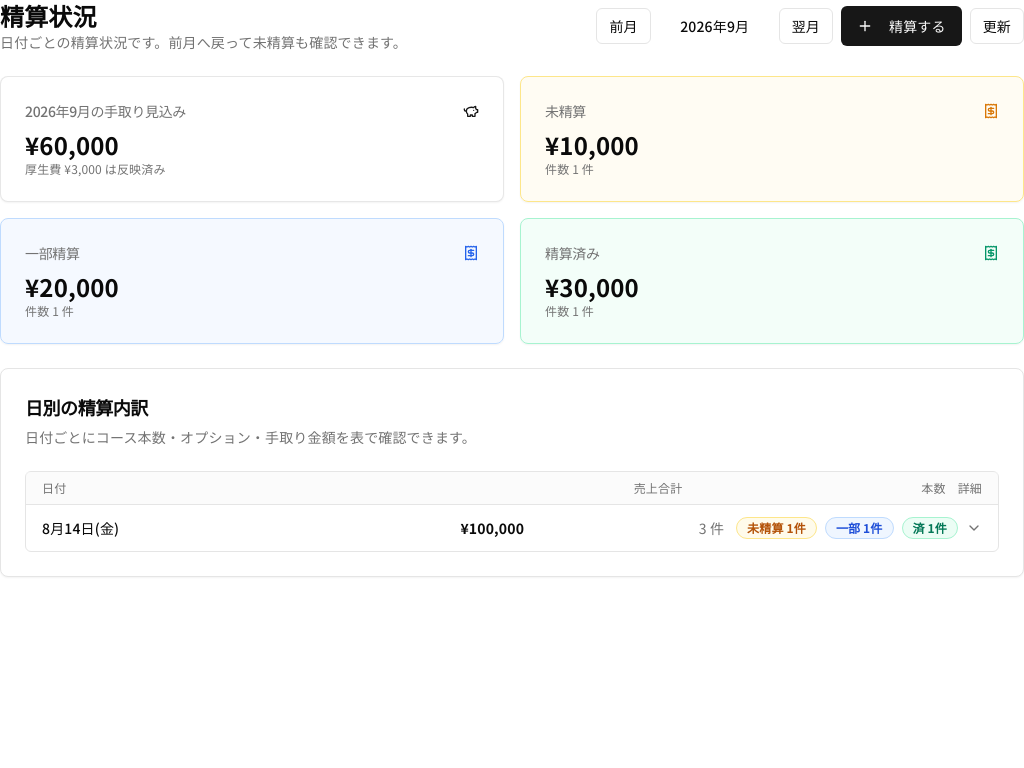
it: SettlementStatusTab › restores every unpaid reservation when 未精算全件を入れる is clicked
What coordinates should you click on to do the following:
click the button "精算する"
I would click on:
 (901, 26)
Its box is [841,6,962,46].
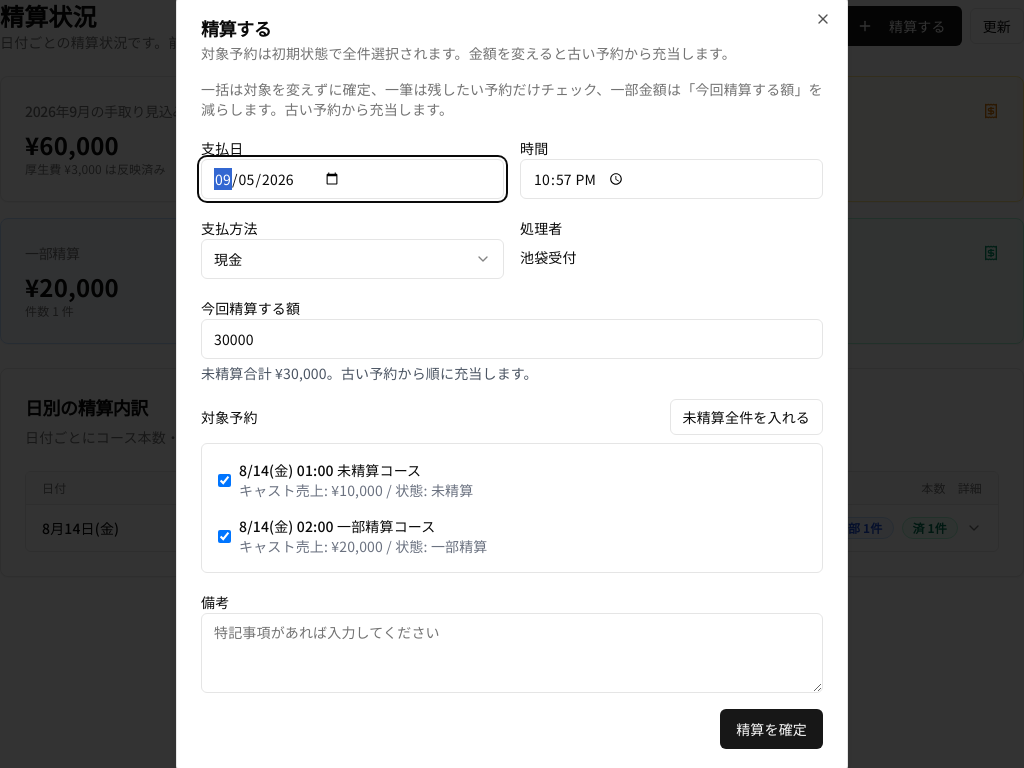
What coordinates should you click on to do the following:
click the checkbox labelled "8/14(金) 01:00 未精算コース キャスト売上: ¥10,000 / 状態: 未精算"
I would click on:
 (224, 480)
Its box is [218,474,231,486].
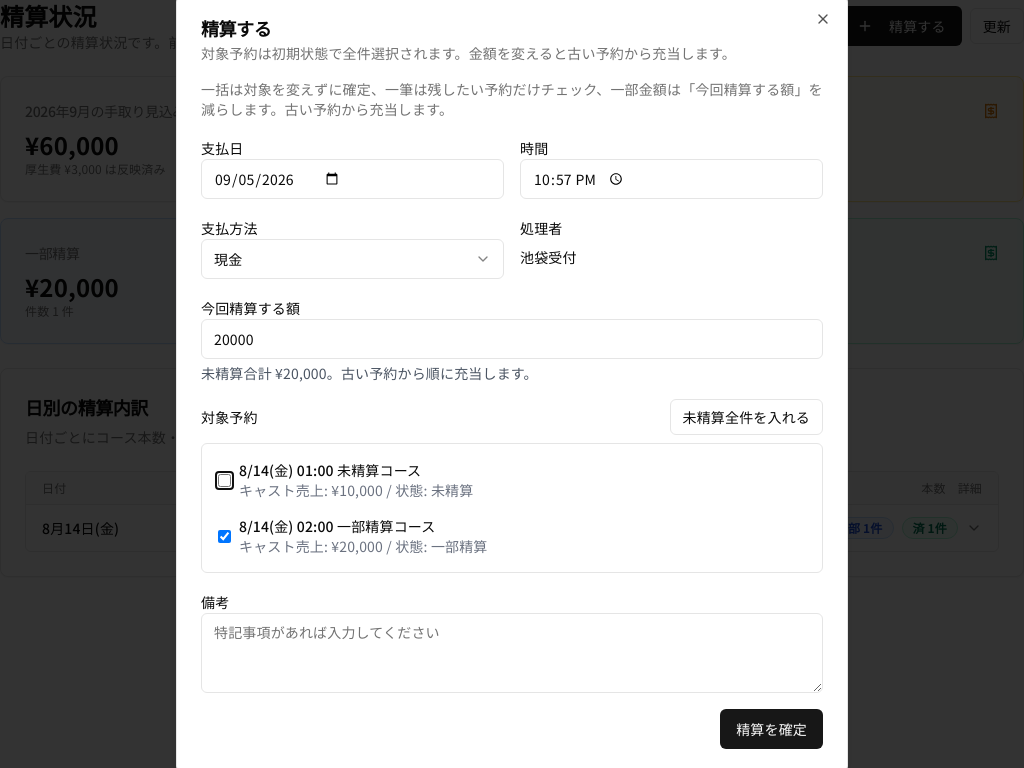
Expected: the number field labelled "今回精算する額" holds "20000", [201,319,823,359]
What coordinates should you click on to do the following:
click the button "未精算全件を入れる"
I would click on:
 (746, 417)
Its box is [670,399,823,435].
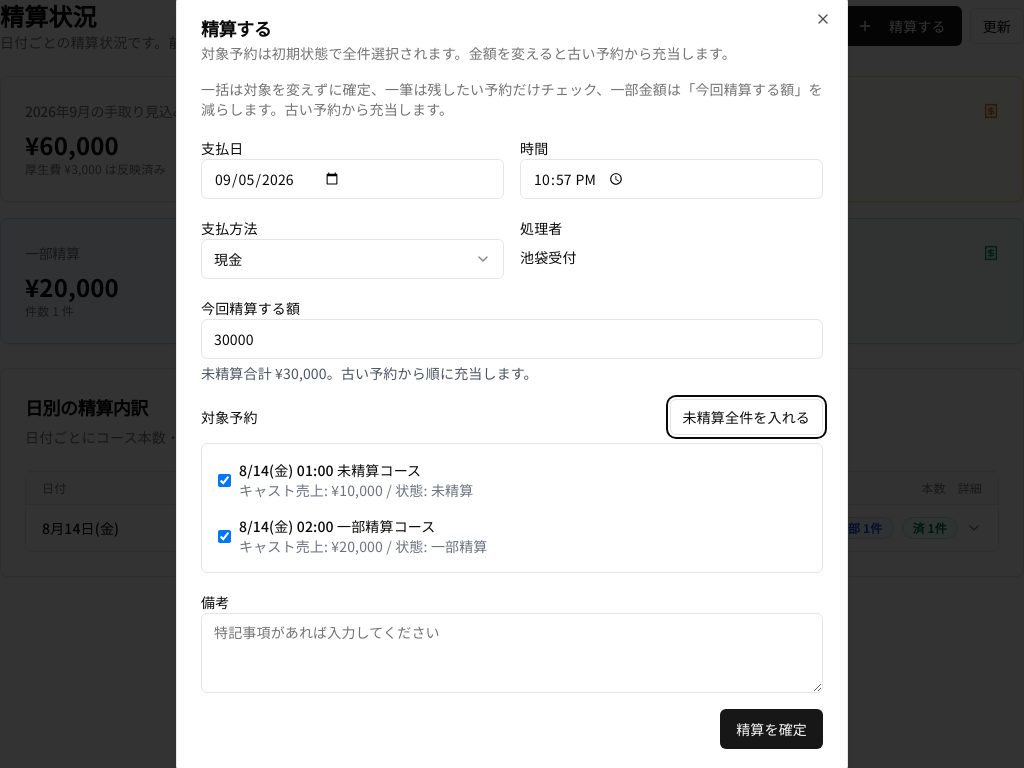
Expected: the checkbox labelled "8/14(金) 01:00 未精算コース キャスト売上: ¥10,000 / 状態: 未精算" is checked, [218,474,231,486]
Expected: the number field labelled "今回精算する額" holds "30000", [201,319,823,359]
